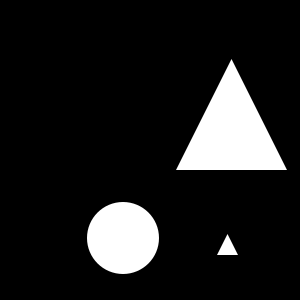rectangle: (87, 202, 159, 274)
triangle: (176, 59, 287, 170), (217, 234, 238, 255)
